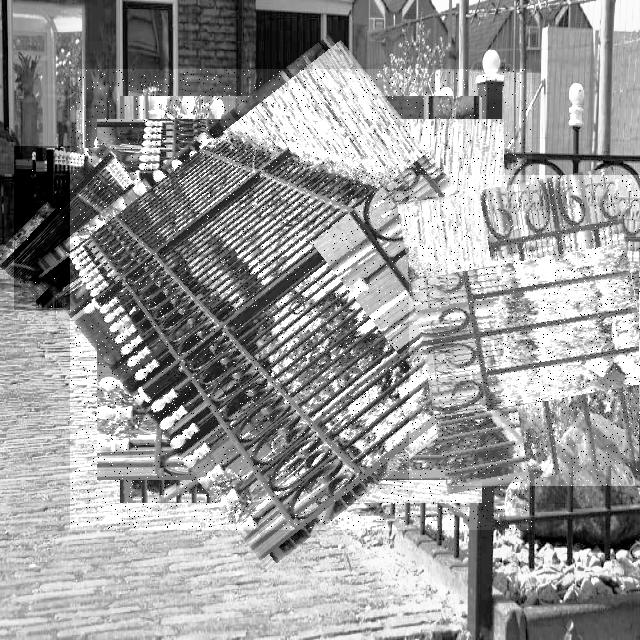fences: (70, 69, 532, 530), (409, 175, 640, 486), (14, 146, 134, 310)
